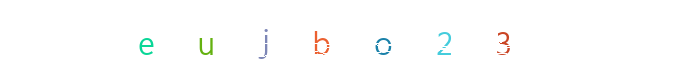2: (343, 0, 423, 80)
3: (364, 0, 444, 80)
B: (307, 0, 387, 80)
E: (106, 0, 186, 80)
J: (286, 0, 366, 80)
O: (314, 0, 394, 80)
U: (167, 0, 247, 80)
